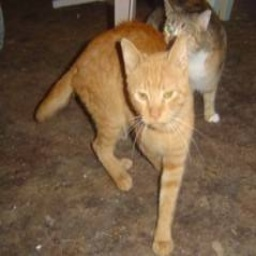cat: (37, 17, 195, 253)
